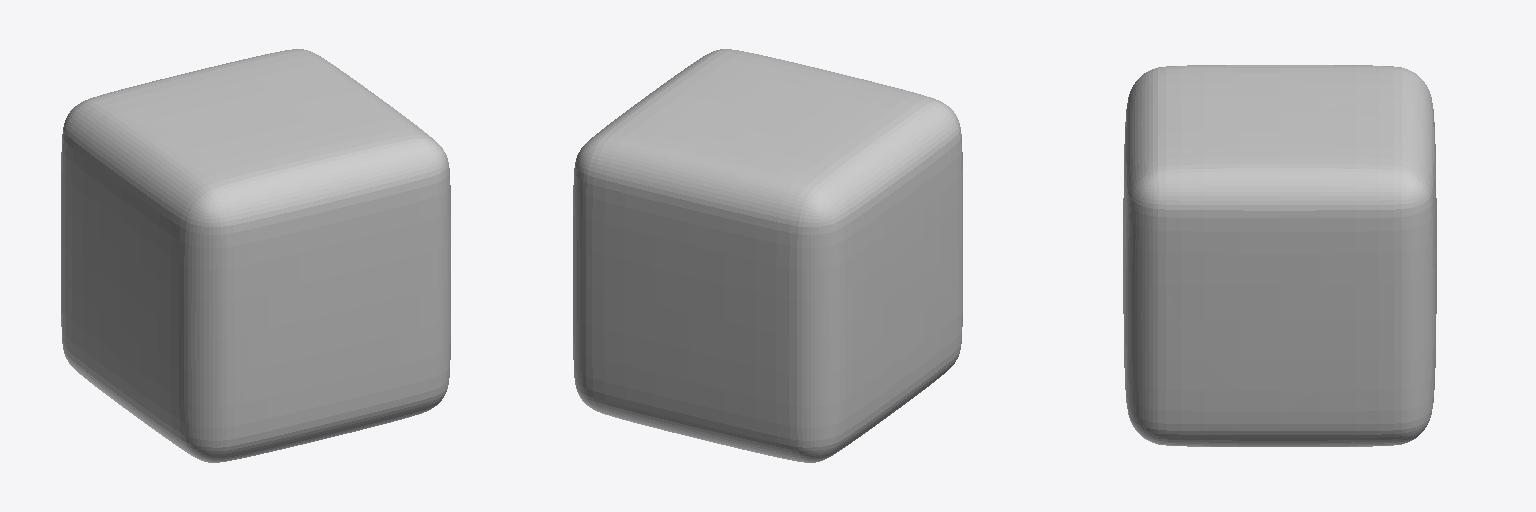
The model's file is dice.obj.
3 views of the same model, side by side, from view 1: azimuth 30°, elevation 25°; view 2: azimuth 150°, elevation 25°; view 3: azimuth 270°, elevation 25° (orthographic).
Visible parts, largest first — view 1: Object_2_Object_0; view 2: Object_2_Object_0; view 3: Object_2_Object_0.
Boxes of the visible parts, x1,y1,x2,y2 form: Object_2_Object_0: [61, 49, 450, 462]; Object_2_Object_0: [573, 49, 962, 462]; Object_2_Object_0: [1123, 65, 1436, 446].
Bounding box in the file's own units: 1.23 × 1.23 × 1.23.